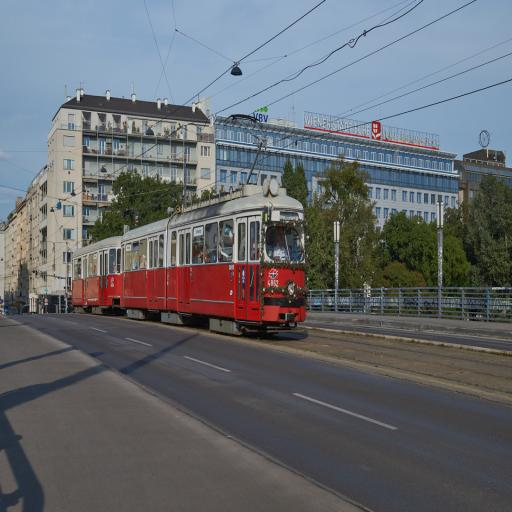E2-Tram: (73, 182, 309, 327)
